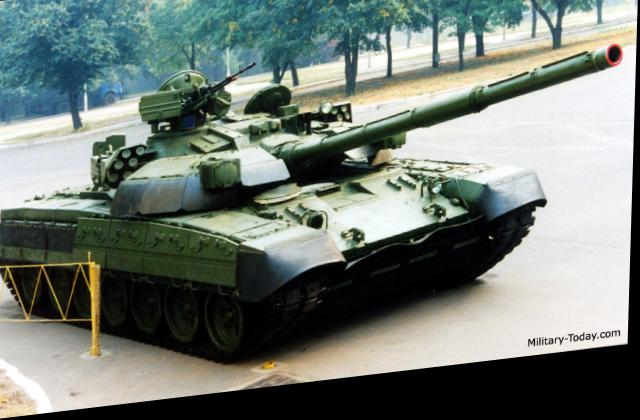tank: (0, 83, 537, 368)
